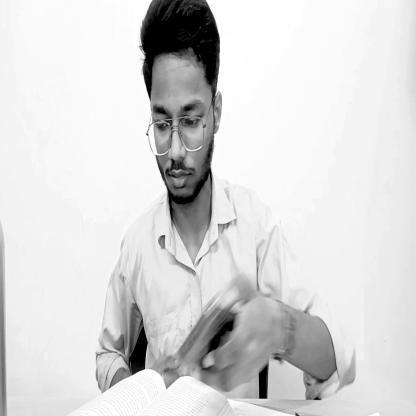Distracted: (140, 3, 224, 213)
